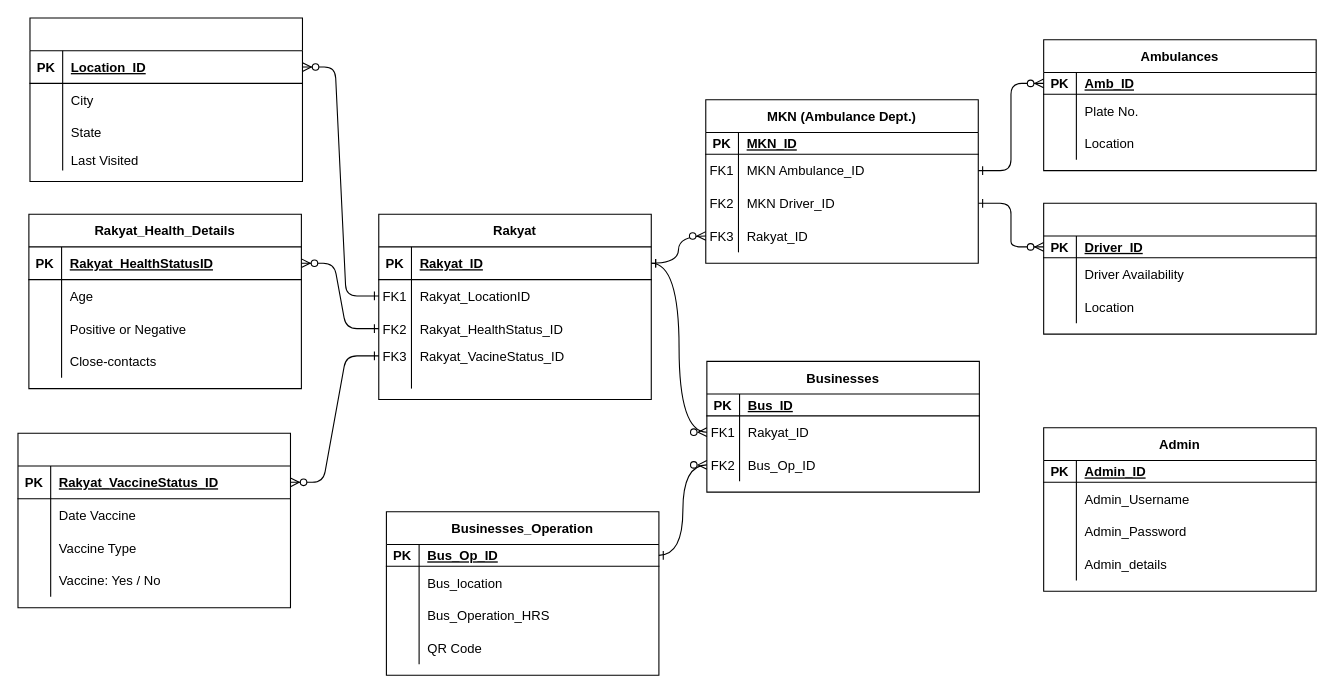
The diagram is 1334 pixels wide and 693 high, and some of its shapes have lost their labels. The shapes that lost their labels are listed below. From the top down, each one's box as (x1, y1, x2, y2) in pixels, then its label:
(29, 17, 302, 181): Rakyat_Location_Details
(1043, 202, 1316, 334): Drivers
(17, 432, 290, 608): Rakyat_Vac_Details
